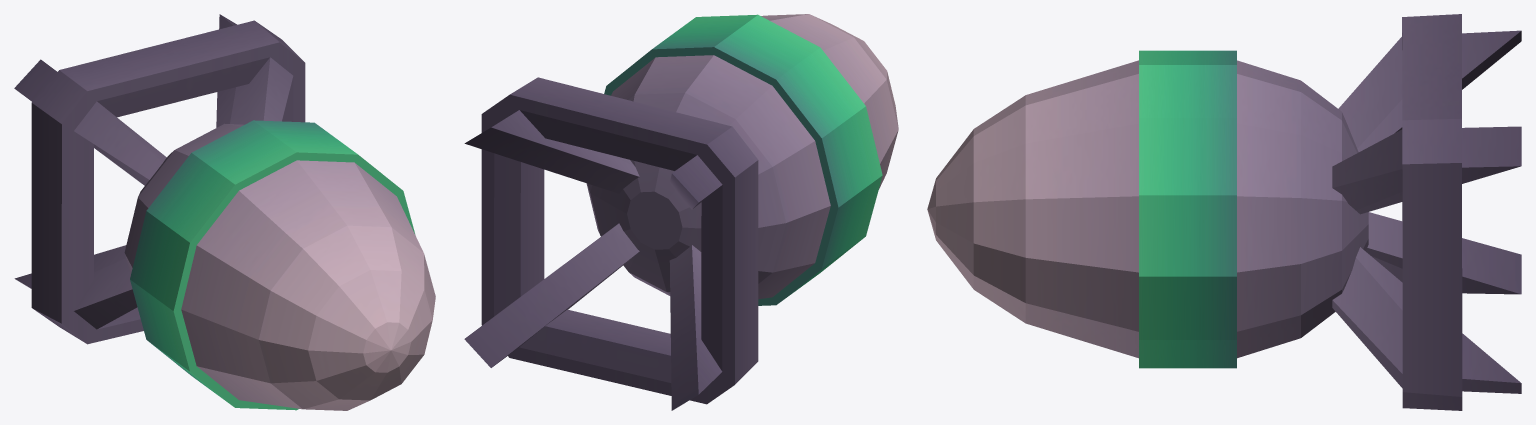
File: Tank_Shell_Green.fbx
3 views of the same model, side by side, from view 1: azimuth 30°, elevation 25°; view 2: azimuth 150°, elevation 25°; view 3: azimuth 270°, elevation 25° (orthographic). The views are drawn at different scales.
Parts seen in each view (by area): view 1: Fat Tank Shell; view 2: Fat Tank Shell; view 3: Fat Tank Shell.
Part boxes in pixels (bbox=[...]): Fat Tank Shell: bbox=[14, 14, 435, 410]; Fat Tank Shell: bbox=[464, 14, 898, 410]; Fat Tank Shell: bbox=[927, 14, 1521, 410].
Size of the model in its own units: 68.24 by 67.24 by 124.
